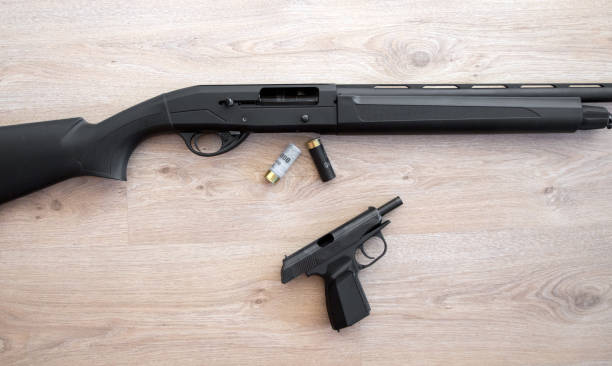gun: (0, 83, 612, 204), (279, 195, 405, 328)
